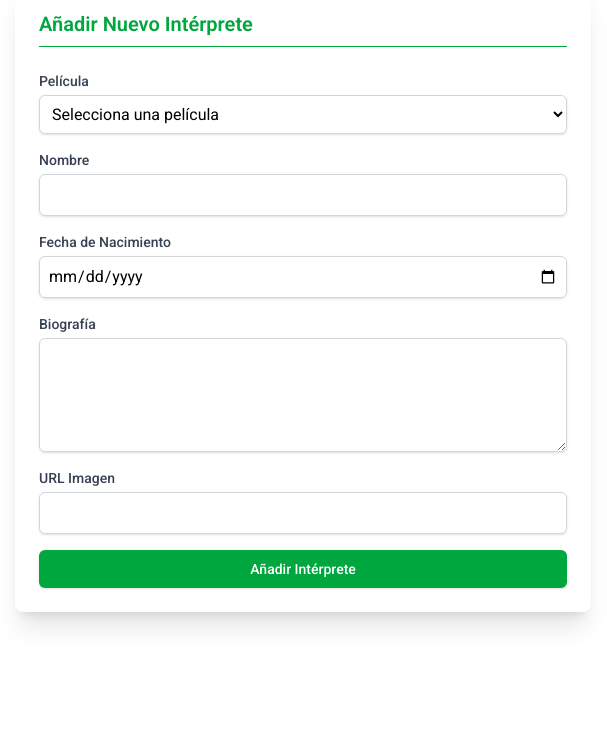
Actividad 4: Validación de longitud de biografía › Debe mostrar error si la biografía tiene menos de 50 caracteres
In the text box labelled "Biografía": (303,395) [39, 338, 567, 452], type "Texto demasiado corto."
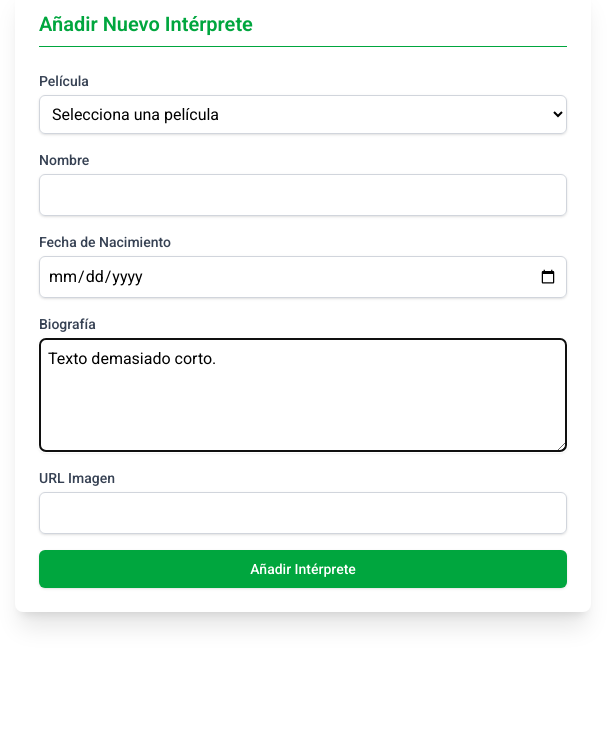
# Usamos 'await user.click' para simular el clic real del ratón.
Click the button "Añadir Intérprete": (303,569) [39, 550, 567, 588]
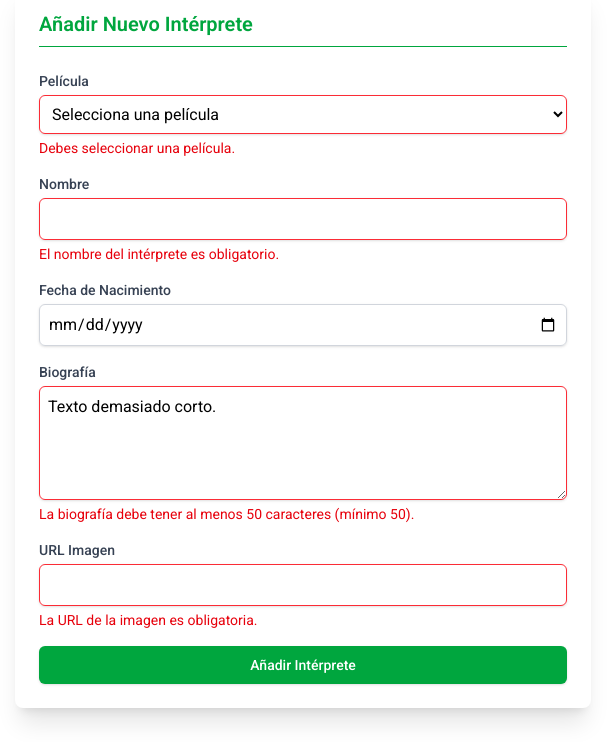
Expected: the text "La biografía debe tener al menos 50 caracteres (mínimo 50)." is shown, [39, 506, 414, 522]
